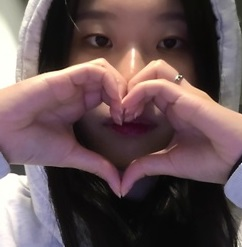heart: (3, 57, 237, 200)
